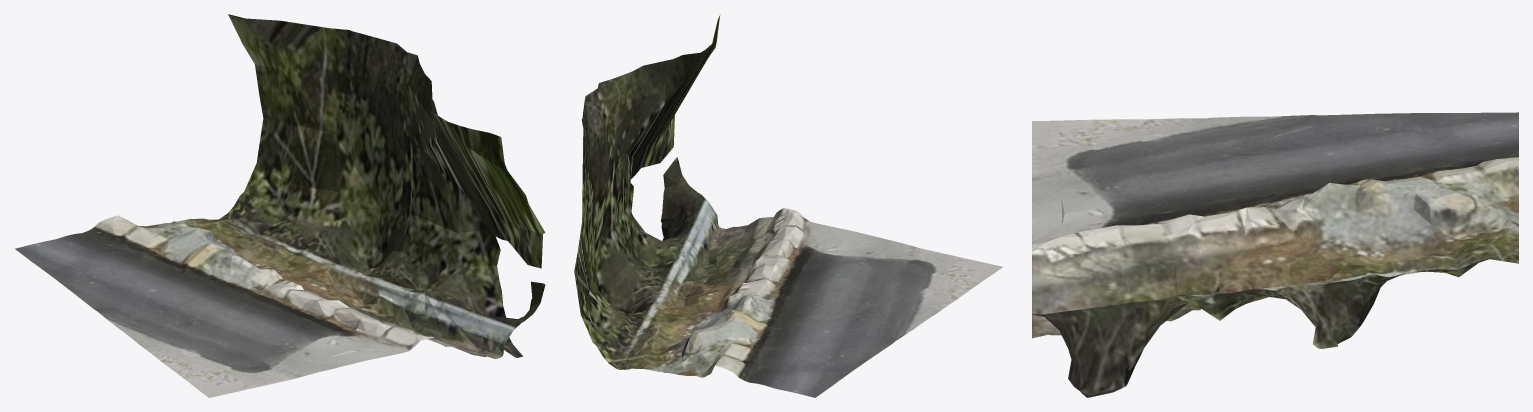
3 views of the same model, side by side, from view 1: azimuth 30°, elevation 25°; view 2: azimuth 150°, elevation 25°; view 3: azimuth 270°, elevation 25° (orthographic). The views are drawn at different scales.
Bounding box in the file's own units: 5.9 × 4.14 × 5.9.
3 materials, 3 textured.
